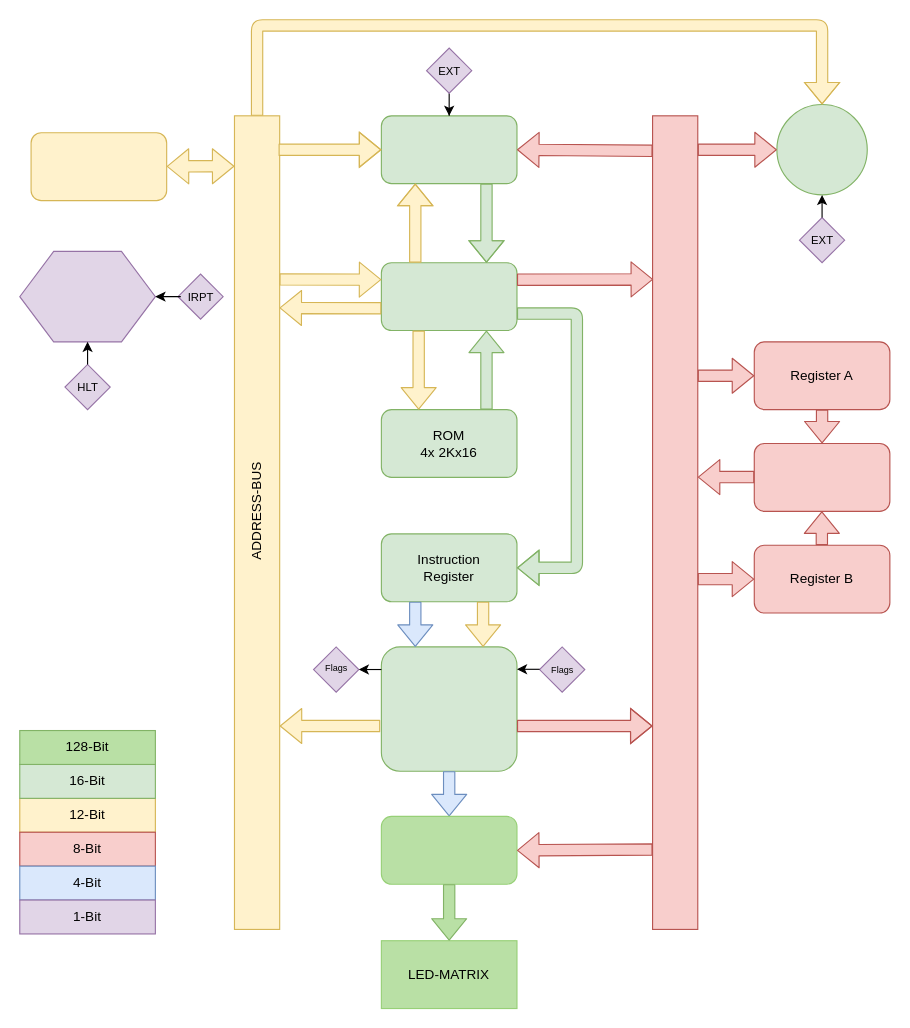
Some shapes in this 910 by 1028 pixel diagram are drawn without their labels. The shapes that lost their labels are listed below. From the top down, each one's centre as x and y in pixels, then its label:
At (98,166): "PC 12-bit".
At (448,149): "RAM 2Kx16".
At (821,149): "Parallel Output".
At (87,296): "Clock".
At (448,296): "MARMEM".
At (821,476): "A(L)U".
At (674,522): "DATA-BUS".
At (448,708): "Micro Instruction Manager".
At (448,849): "GFX Register".
